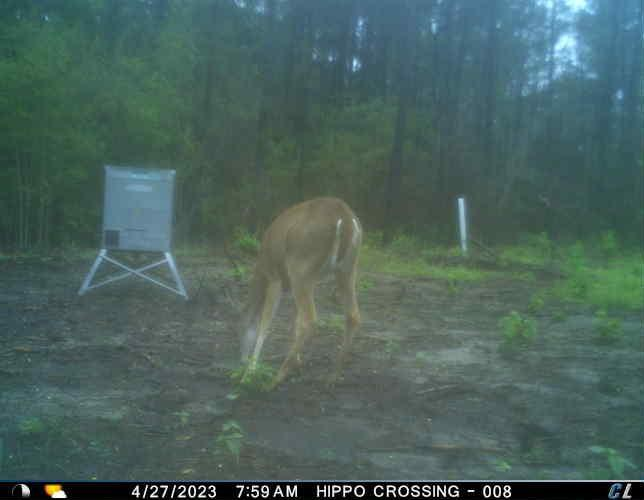Deer: (221, 193, 366, 394)
